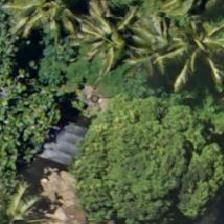coconut_tree: (116, 6, 206, 96), (70, 0, 160, 83), (147, 5, 223, 95), (0, 176, 51, 223)
